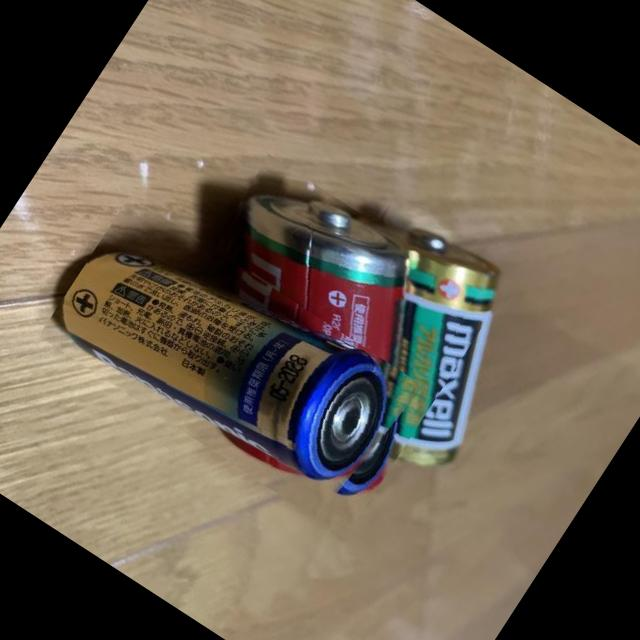Hazard: (121, 154, 496, 526), (36, 195, 422, 528), (270, 192, 567, 496)
